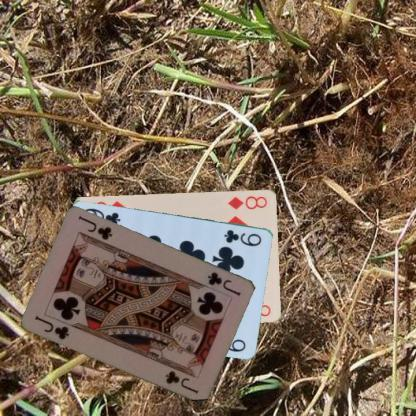8d: (225, 192, 268, 210)
9c: (221, 226, 263, 247)
Jc: (205, 268, 243, 298), (32, 312, 71, 341)
